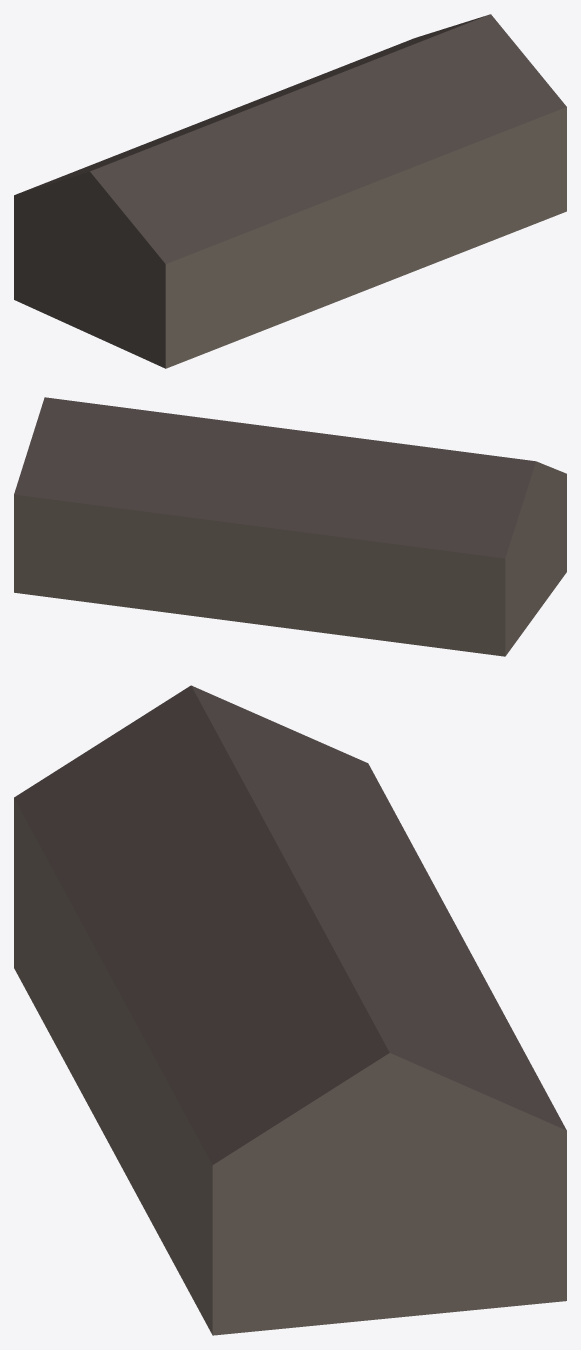
The picture shows the model from 3 angles, top to bottom: view 1: azimuth 30°, elevation 25°; view 2: azimuth 150°, elevation 25°; view 3: azimuth 270°, elevation 25°; orthographic projection. The views are drawn at different scales.
Visible parts, largest first — view 1: HP-w408450652; view 2: HP-w408450652; view 3: HP-w408450652.
Boxes of the visible parts, x1,y1,x2,y2 form: HP-w408450652: (14,14,566,368); HP-w408450652: (14,397,566,656); HP-w408450652: (14,685,566,1335).
Bounding box in the file's own units: 15.18 × 4.68 × 8.83.
